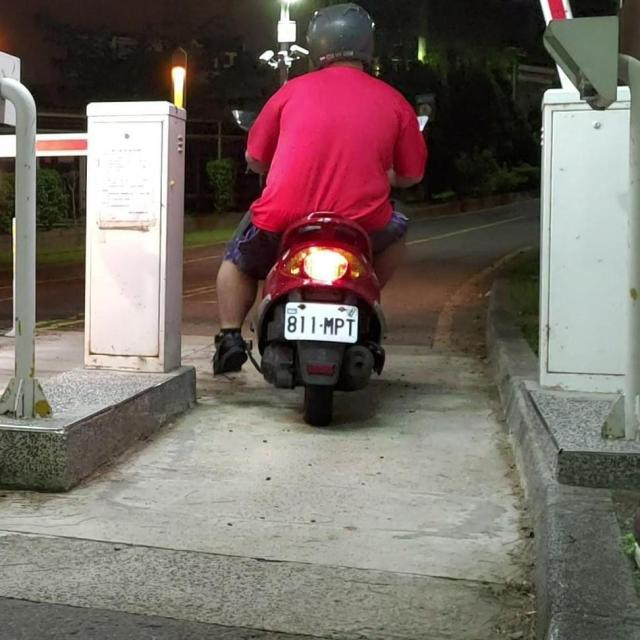W: (283, 300, 361, 344)
